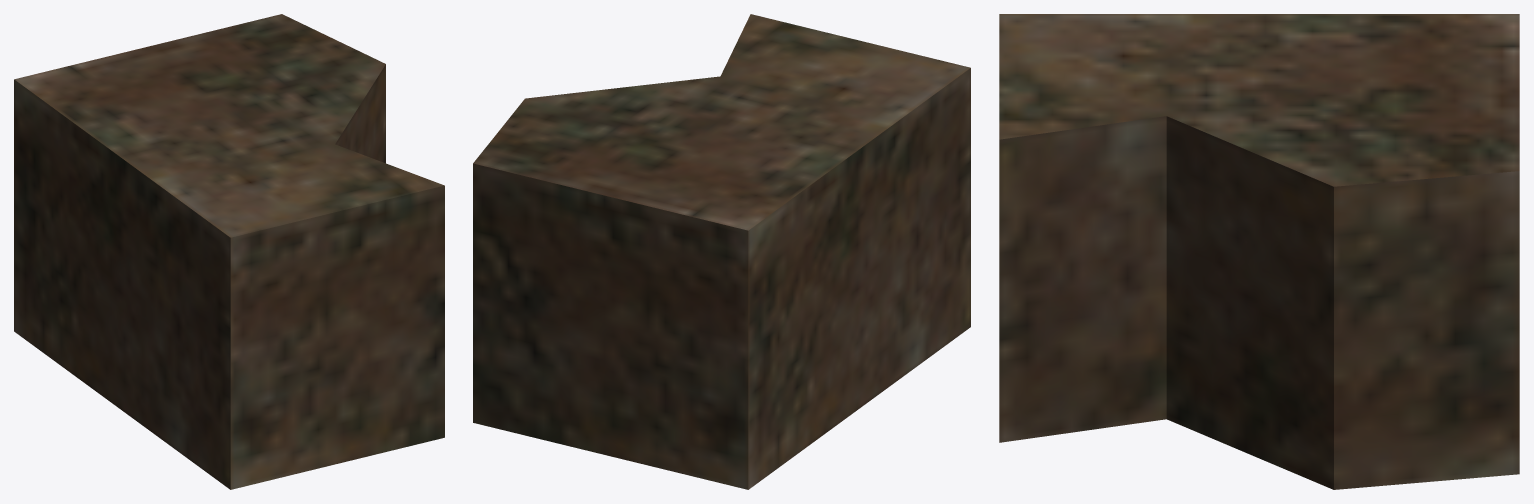
Rendered from brick_mx_2_3.obj.
The picture shows the model from 3 angles, left to right: view 1: azimuth 30°, elevation 25°; view 2: azimuth 150°, elevation 25°; view 3: azimuth 270°, elevation 25°; orthographic projection. The views are drawn at different scales.
Visible parts, largest first — view 1: brick_mx_2_3; view 2: brick_mx_2_3; view 3: brick_mx_2_3.
Part boxes in pixels (x1=…): brick_mx_2_3: x1=14, y1=14, x2=444, y2=489; brick_mx_2_3: x1=473, y1=14, x2=970, y2=489; brick_mx_2_3: x1=999, y1=14, x2=1519, y2=489.
Bounding box in the file's own units: 0.11 × 0.09 × 0.14.
